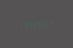eight: (27, 20, 31, 28), (37, 19, 41, 27)
five: (22, 21, 26, 28)
four: (52, 18, 56, 26)
one: (47, 19, 51, 26)
three: (32, 20, 36, 27)
two: (17, 21, 21, 29)
zero: (42, 19, 46, 27)
